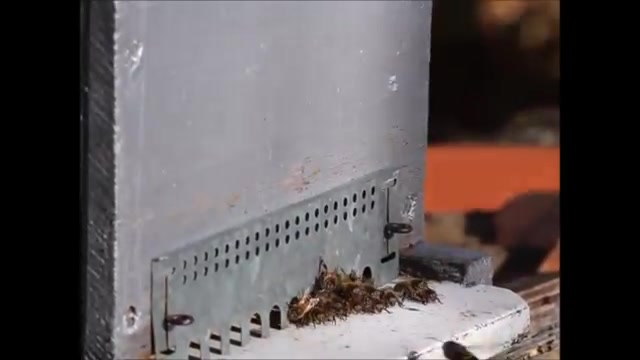bee: (287, 296, 316, 323), (352, 287, 377, 309), (397, 282, 427, 298), (323, 276, 339, 295)
